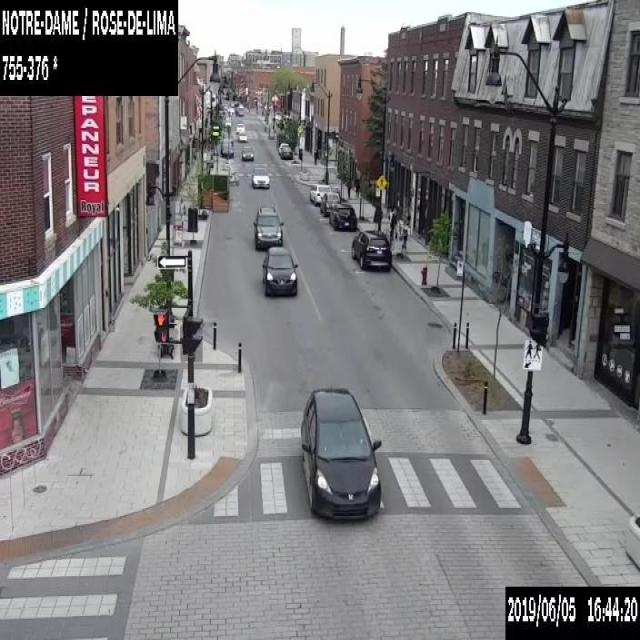pedestrian: (387, 207, 397, 240), (178, 197, 185, 226)
vehicle: (299, 386, 381, 518), (350, 229, 391, 269), (262, 246, 296, 294), (252, 205, 284, 250), (328, 203, 356, 230), (319, 191, 340, 216), (309, 183, 331, 205), (250, 166, 269, 187), (241, 145, 253, 160), (280, 145, 292, 159), (221, 143, 233, 156), (278, 142, 288, 154), (234, 104, 243, 116), (236, 122, 244, 133), (237, 131, 246, 140)
